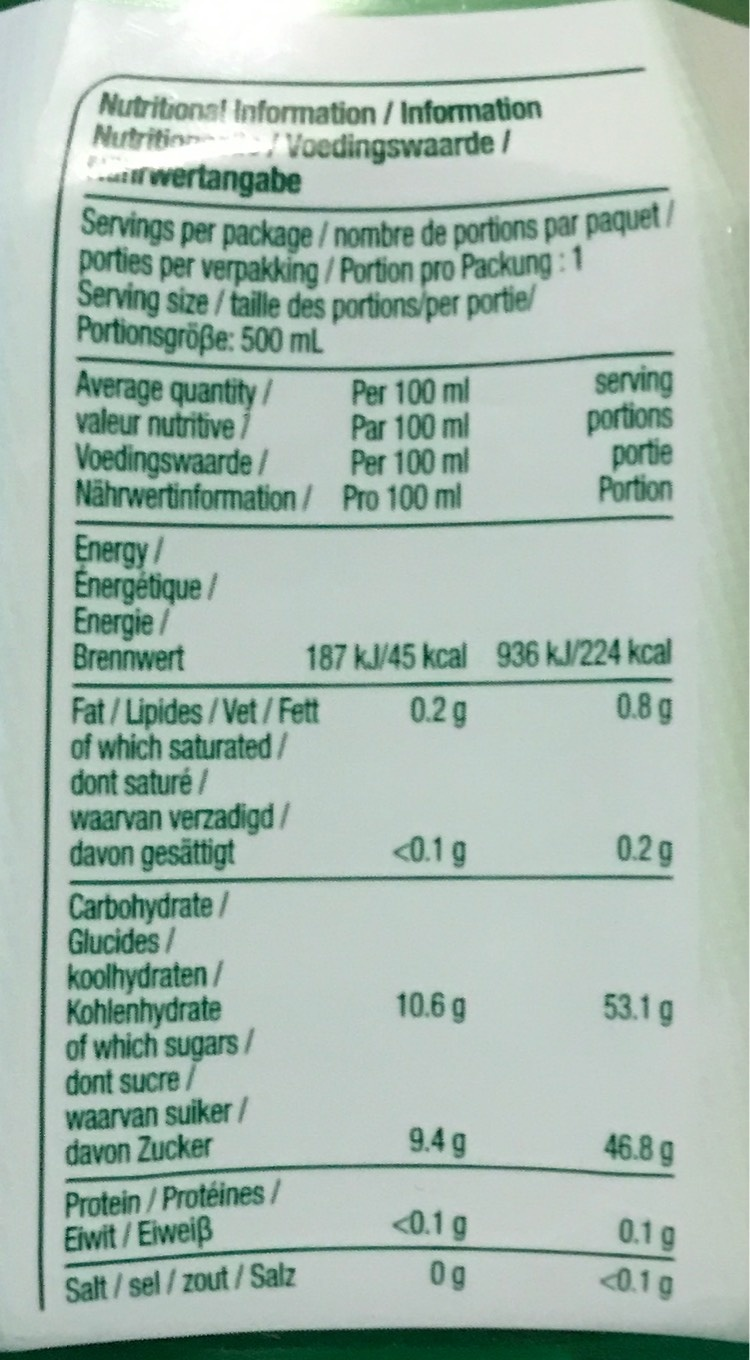column: (71, 360, 469, 1306), (494, 356, 682, 1314)
table: (46, 58, 696, 1331)
